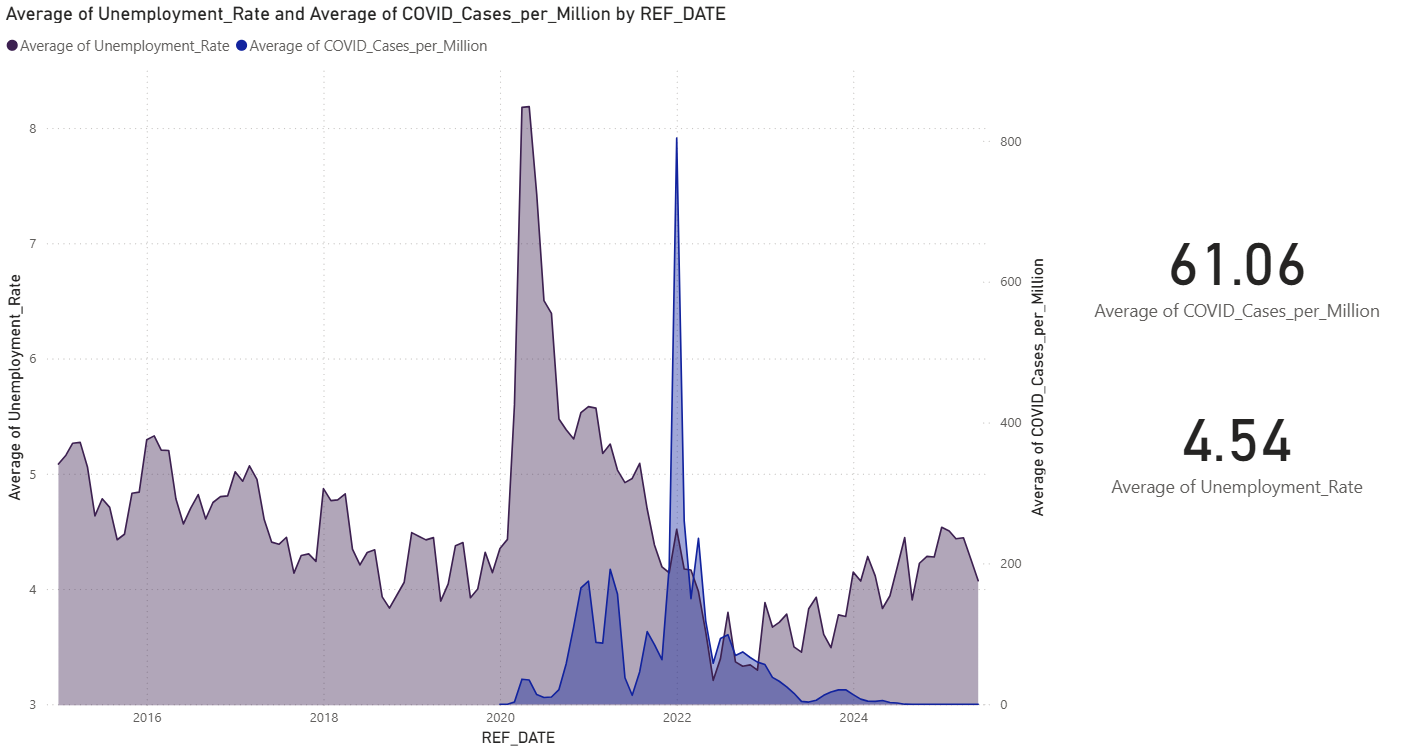

Layout of this report page (visuals, bound fields, positions):
{"tool":"powerbi","page":{"name":"Page 3","canvas":[1280,720],"ordinal":2},"visuals":[{"type":"actionButton","box":[0,0,100,40],"z":0},{"type":"areaChart","fields":{"Y":["Avg(Cleaned_macro_covid_data_with_dates.Unemployment_Rate)"],"Y2":["Avg(Cleaned_macro_covid_data_with_dates.COVID_Cases_per_Million)"],"Category":["Cleaned_macro_covid_data_with_dates.REF_DATE"]},"box":[0,39.9,953,680.1],"z":1000},{"type":"card","fields":{"Values":["Avg(Cleaned_macro_covid_data_with_dates.COVID_Cases_per_Million)"]},"box":[963,201.3,317.4,158.7],"z":2000},{"type":"card","fields":{"Values":["Avg(Cleaned_macro_covid_data_with_dates.Unemployment_Rate)"]},"box":[963,360,317.4,161.4],"z":3000}]}

Visuals, with their boxes on the page's 1280x720 design canvas (x1, y1, x2, y2). These are canvas units, not pixel positions in the 1409x751 screenshot, which may show the page scaled, cropped or inside an application window:
actionButton: Rect(0, 0, 100, 40)
areaChart - Avg(Cleaned_macro_covid_data_with_dates.Unemployment_Rate) x Avg(Cleaned_macro_covid_data_with_dates.COVID_Cases_per_Million): Rect(0, 40, 953, 720)
card - Avg(Cleaned_macro_covid_data_with_dates.COVID_Cases_per_Million): Rect(963, 201, 1280, 360)
card - Avg(Cleaned_macro_covid_data_with_dates.Unemployment_Rate): Rect(963, 360, 1280, 521)
